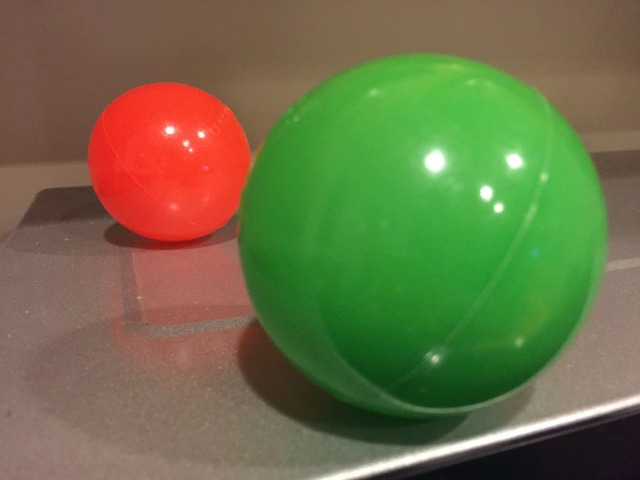Ball: (240, 52, 606, 413)
